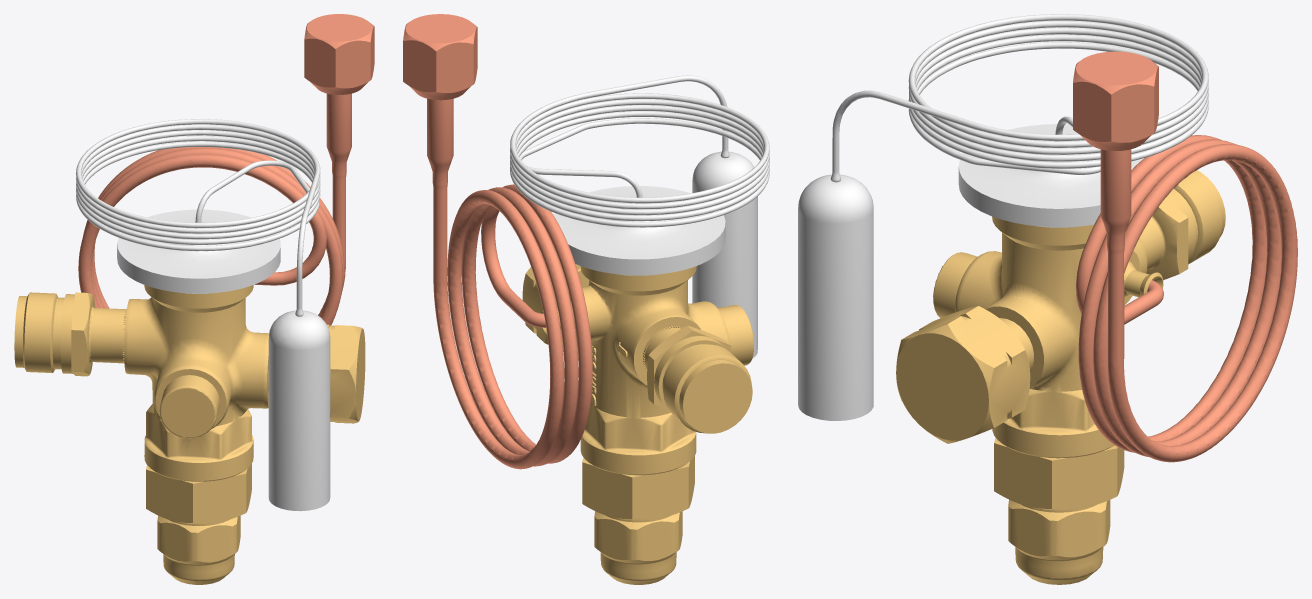
The model's file is TR6 ADJUSTABLE.glb.
3 renders of one model, left to right at view 1: azimuth 30°, elevation 25°; view 2: azimuth 150°, elevation 25°; view 3: azimuth 270°, elevation 25°, orthographic. The views are drawn at different scales.
Parts seen in each view (by area): view 1: Unnamed-TR6 ADJUSTABLE.003, Unnamed-TR6 ADJUSTABLE.004, Unnamed-TR6 ADJUSTABLE.001, Unnamed-TR6 ADJUSTABLE.005, Unnamed-TR6 ADJUSTABLE.006; view 2: Unnamed-TR6 ADJUSTABLE.003, Unnamed-TR6 ADJUSTABLE.004, Unnamed-TR6 ADJUSTABLE.001, Unnamed-TR6 ADJUSTABLE.006, Unnamed-TR6 ADJUSTABLE.005; view 3: Unnamed-TR6 ADJUSTABLE.003, Unnamed-TR6 ADJUSTABLE.004, Unnamed-TR6 ADJUSTABLE.001, Unnamed-TR6 ADJUSTABLE.005, Unnamed-TR6 ADJUSTABLE.006.
Part boxes in pixels (box(x1,y1,x2,y2)): Unnamed-TR6 ADJUSTABLE.003: box(14, 285, 365, 584); Unnamed-TR6 ADJUSTABLE.004: box(78, 14, 374, 376); Unnamed-TR6 ADJUSTABLE.001: box(76, 119, 320, 316); Unnamed-TR6 ADJUSTABLE.005: box(268, 310, 330, 511); Unnamed-TR6 ADJUSTABLE.006: box(117, 209, 280, 293); Unnamed-TR6 ADJUSTABLE.003: box(522, 253, 753, 584); Unnamed-TR6 ADJUSTABLE.004: box(403, 14, 592, 469); Unnamed-TR6 ADJUSTABLE.001: box(510, 75, 769, 227); Unnamed-TR6 ADJUSTABLE.006: box(553, 186, 725, 275); Unnamed-TR6 ADJUSTABLE.005: box(692, 151, 757, 358); Unnamed-TR6 ADJUSTABLE.003: box(896, 170, 1225, 584); Unnamed-TR6 ADJUSTABLE.004: box(1073, 51, 1297, 462); Unnamed-TR6 ADJUSTABLE.001: box(830, 14, 1208, 182); Unnamed-TR6 ADJUSTABLE.005: box(798, 174, 873, 420); Unnamed-TR6 ADJUSTABLE.006: box(958, 124, 1147, 227).
Bounding box in the file's own units: 0.9418 × 1.28 × 0.9692.
